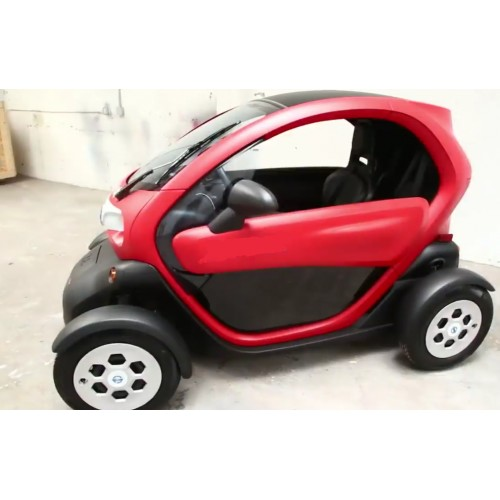Carro: (44, 87, 495, 409)
